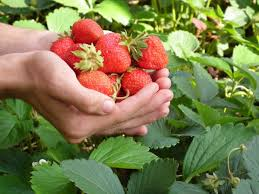strawberry: (91, 31, 132, 73), (130, 33, 169, 71), (48, 36, 84, 69), (120, 66, 156, 97), (71, 19, 106, 46), (77, 69, 112, 94)
